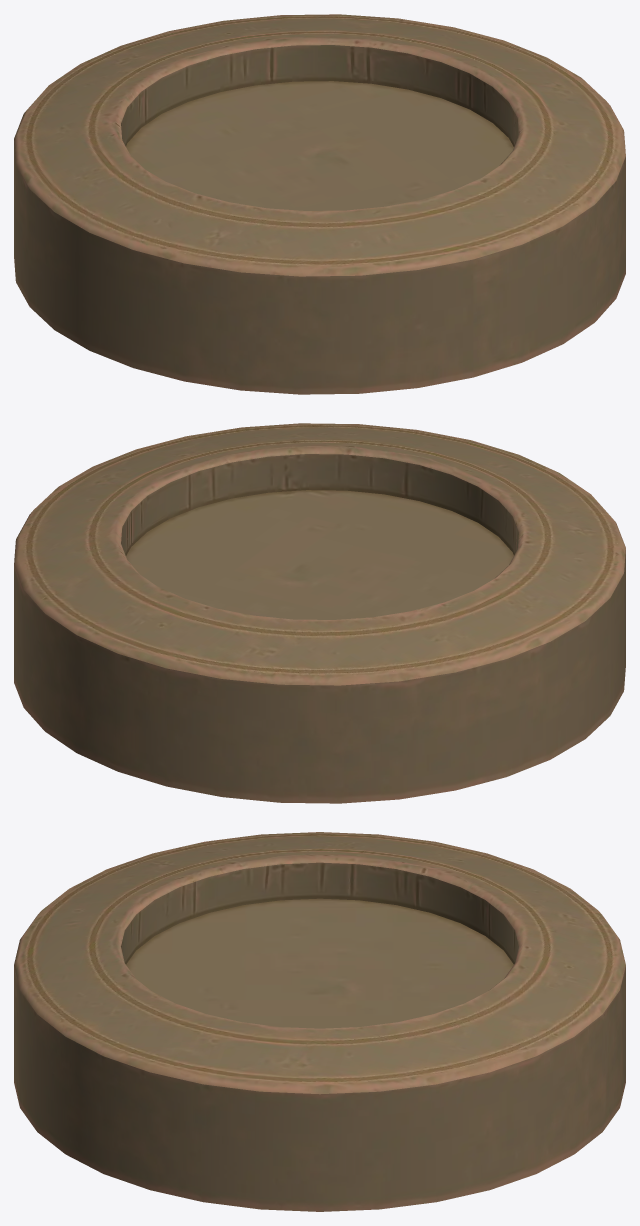
The picture shows the model from 3 angles, top to bottom: view 1: azimuth 30°, elevation 25°; view 2: azimuth 150°, elevation 25°; view 3: azimuth 270°, elevation 25°; orthographic projection.
Visible parts, largest first — view 1: SM_TempleKey_Base_LOD0; view 2: SM_TempleKey_Base_LOD0; view 3: SM_TempleKey_Base_LOD0.
Boxes of the visible parts, x1,y1,x2,y2 form: SM_TempleKey_Base_LOD0: (14, 14, 625, 394); SM_TempleKey_Base_LOD0: (14, 423, 625, 803); SM_TempleKey_Base_LOD0: (14, 832, 625, 1211).
Size of the model in its own units: 0.2769 by 0.0701 by 0.2769.
Materials: 1 (1 with a texture image).
